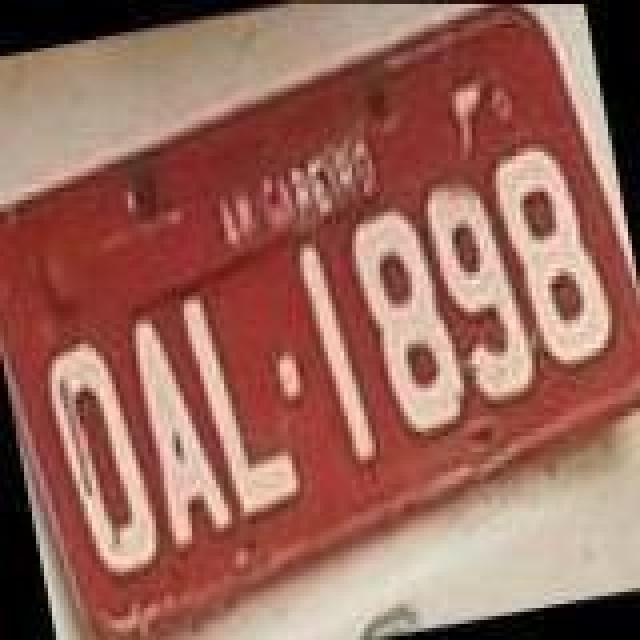1: (290, 232, 382, 468)
8: (482, 134, 622, 378), (342, 202, 474, 442)
9: (416, 168, 544, 412)
A: (128, 310, 240, 558)
L: (176, 280, 304, 524)
O: (40, 332, 168, 588)
